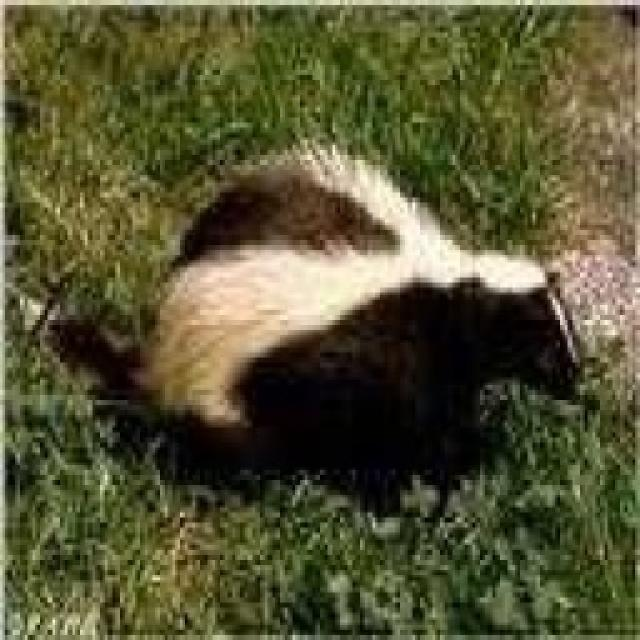not_pig: (127, 135, 585, 500)
